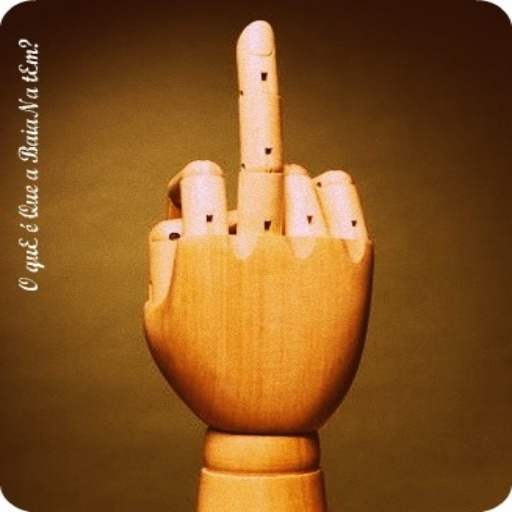hand: (144, 20, 374, 436)
